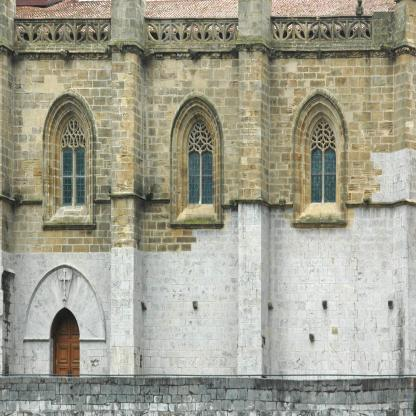Cornice: (23, 262, 107, 344)
Door: (49, 307, 80, 377), (53, 310, 83, 377)
Floor Slab: (1, 254, 415, 268)
Ground Floor: (1, 268, 415, 415)
Molding: (270, 11, 394, 51), (13, 18, 112, 54), (144, 17, 239, 53)
Pillar: (108, 0, 136, 378), (236, 0, 263, 379), (393, 0, 406, 378)
Top Floor: (1, 0, 415, 254)
Window: (60, 118, 85, 206), (187, 120, 213, 204), (310, 119, 336, 203)
